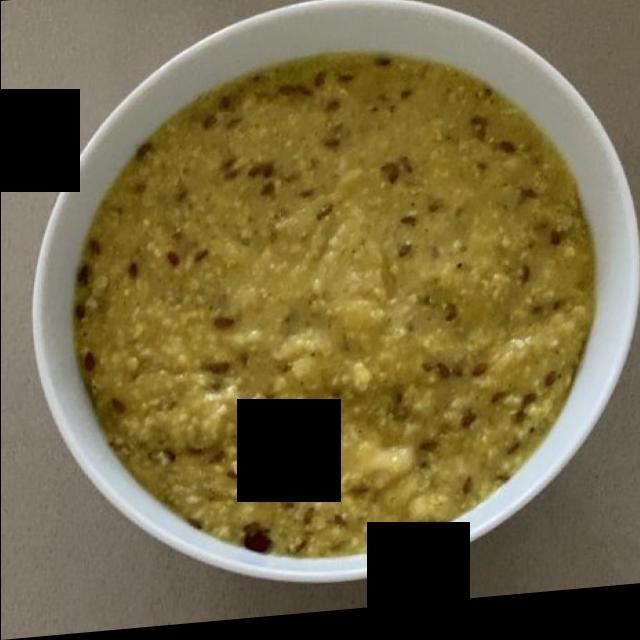porridge: (85, 71, 583, 558)
